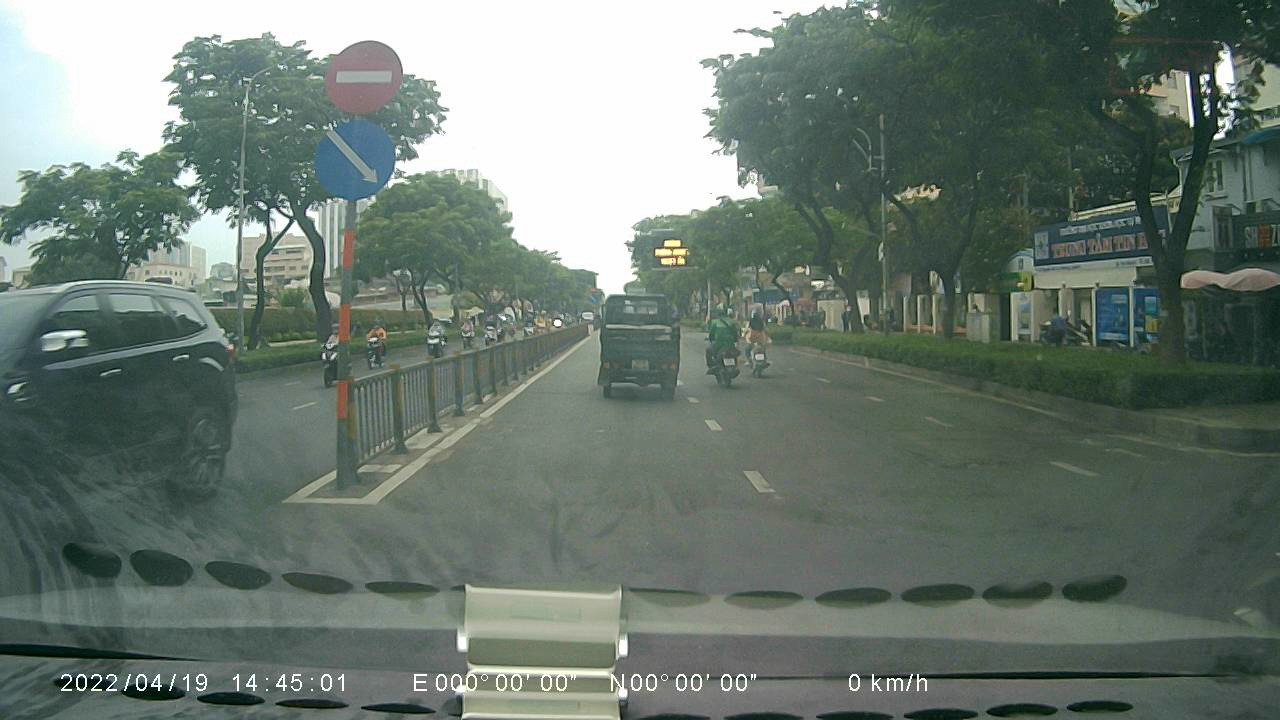Cam di nguoc chieu: (325, 38, 408, 114)
Huong di phai re phai: (311, 116, 394, 205)
